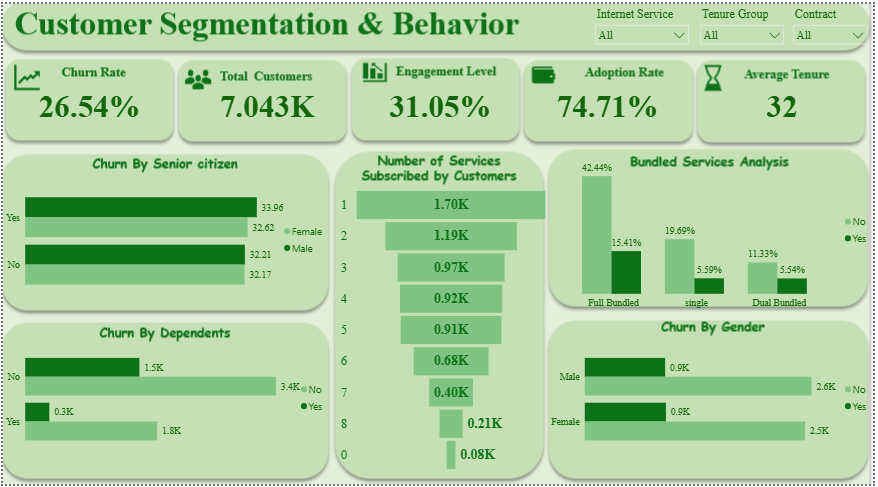

Layout of this report page (visuals, bound fields, positions):
{"tool":"powerbi","page":{"name":"Customer Segmentation & Behavior","canvas":[1450,800],"ordinal":1},"visuals":[{"type":"image","box":[-6,0,1456,800],"z":0},{"type":"cardVisual","fields":{"Data":["WA_Fn_UseC__Telco_Customer_Chur.Churn Rate"]},"box":[0,96,288,144],"z":1000},{"type":"cardVisual","fields":{"Data":["CountNonNull(WA_Fn_UseC__Telco_Customer_Chur.Customer Id)"]},"box":[288,96,304,144],"z":2000},{"type":"cardVisual","fields":{"Data":["WA_Fn_UseC__Telco_Customer_Chur.High Engagement Rate"]},"box":[576,96,304,144],"z":3000},{"type":"cardVisual","fields":{"Data":["WA_Fn_UseC__Telco_Customer_Chur.Adoption Rate"]},"box":[864,96,288,144],"z":4000},{"type":"cardVisual","fields":{"Data":["Avg(WA_Fn_UseC__Telco_Customer_Chur.Tenure)"]},"box":[1146,96,304,144],"z":5000},{"type":"clusteredBarChart","fields":{"Y":["Avg(WA_Fn_UseC__Telco_Customer_Chur.Tenure)"],"Category":["WA_Fn_UseC__Telco_Customer_Chur.Senior Citizen"],"Series":["WA_Fn_UseC__Telco_Customer_Chur.Gender"]},"box":[0,240,544,304],"z":6000},{"type":"clusteredBarChart","fields":{"Category":["WA_Fn_UseC__Telco_Customer_Chur.Gender"],"Series":["WA_Fn_UseC__Telco_Customer_Chur.Churn"],"Y":["CountNonNull(WA_Fn_UseC__Telco_Customer_Chur.Customer Id)"]},"box":[906,512,544,288],"z":7000},{"type":"clusteredColumnChart","fields":{"Category":["WA_Fn_UseC__Telco_Customer_Chur.Bundle Categories"],"Series":["WA_Fn_UseC__Telco_Customer_Chur.Churn"],"Y":["CountNonNull(WA_Fn_UseC__Telco_Customer_Chur.Customer Id)"]},"box":[906,240,544,272],"z":8000},{"type":"clusteredBarChart","fields":{"Series":["WA_Fn_UseC__Telco_Customer_Chur.Churn"],"Category":["WA_Fn_UseC__Telco_Customer_Chur.Dependents"],"Y":["CountNonNull(WA_Fn_UseC__Telco_Customer_Chur.Customer Id)"]},"box":[0,512,544,288],"z":9000},{"type":"funnel","fields":{"Category":["WA_Fn_UseC__Telco_Customer_Chur.Bundled Services"],"Y":["CountNonNull(WA_Fn_UseC__Telco_Customer_Chur.Customer Id)"]},"box":[560,304,352,480],"z":10000},{"type":"slicer","fields":{"Values":["WA_Fn_UseC__Telco_Customer_Chur.Tenure Group"]},"box":[1152,0,160,80],"z":11000},{"type":"slicer","fields":{"Values":["WA_Fn_UseC__Telco_Customer_Chur.Internet Service"]},"box":[976,0,176,80],"z":12000},{"type":"slicer","fields":{"Values":["WA_Fn_UseC__Telco_Customer_Chur.Contract"]},"box":[1306,0,144,80],"z":13000}]}

Visuals, with their boxes in screenshot pixels (x1, y1, x2, y2), scaled from the page's 1450x800 canvas onto the 878x487 screenshot:
image: select_region(0, 0, 877, 486)
cardVisual - WA_Fn_UseC__Telco_Customer_Chur.Churn Rate: select_region(0, 58, 174, 146)
cardVisual - CountNonNull(WA_Fn_UseC__Telco_Customer_Chur.Customer Id): select_region(174, 58, 358, 146)
cardVisual - WA_Fn_UseC__Telco_Customer_Chur.High Engagement Rate: select_region(349, 58, 533, 146)
cardVisual - WA_Fn_UseC__Telco_Customer_Chur.Adoption Rate: select_region(523, 58, 698, 146)
cardVisual - Avg(WA_Fn_UseC__Telco_Customer_Chur.Tenure): select_region(694, 58, 877, 146)
clusteredBarChart - Avg(WA_Fn_UseC__Telco_Customer_Chur.Tenure) x WA_Fn_UseC__Telco_Customer_Chur.Senior Citizen: select_region(0, 146, 329, 331)
clusteredBarChart - WA_Fn_UseC__Telco_Customer_Chur.Gender x WA_Fn_UseC__Telco_Customer_Chur.Churn: select_region(549, 312, 877, 486)
clusteredColumnChart - WA_Fn_UseC__Telco_Customer_Chur.Bundle Categories x WA_Fn_UseC__Telco_Customer_Chur.Churn: select_region(549, 146, 877, 312)
clusteredBarChart - WA_Fn_UseC__Telco_Customer_Chur.Churn x WA_Fn_UseC__Telco_Customer_Chur.Dependents: select_region(0, 312, 329, 486)
funnel - WA_Fn_UseC__Telco_Customer_Chur.Bundled Services x CountNonNull(WA_Fn_UseC__Telco_Customer_Chur.Customer Id): select_region(339, 185, 552, 477)
slicer - WA_Fn_UseC__Telco_Customer_Chur.Tenure Group: select_region(698, 0, 794, 49)
slicer - WA_Fn_UseC__Telco_Customer_Chur.Internet Service: select_region(591, 0, 698, 49)
slicer - WA_Fn_UseC__Telco_Customer_Chur.Contract: select_region(791, 0, 877, 49)
